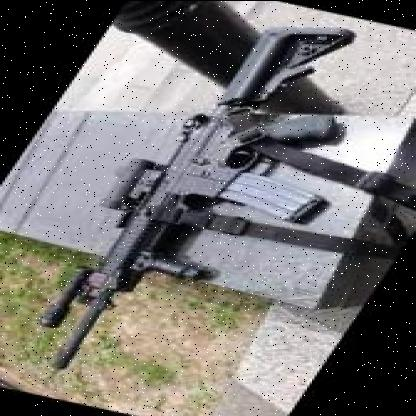rifle: (17, 10, 416, 390)
